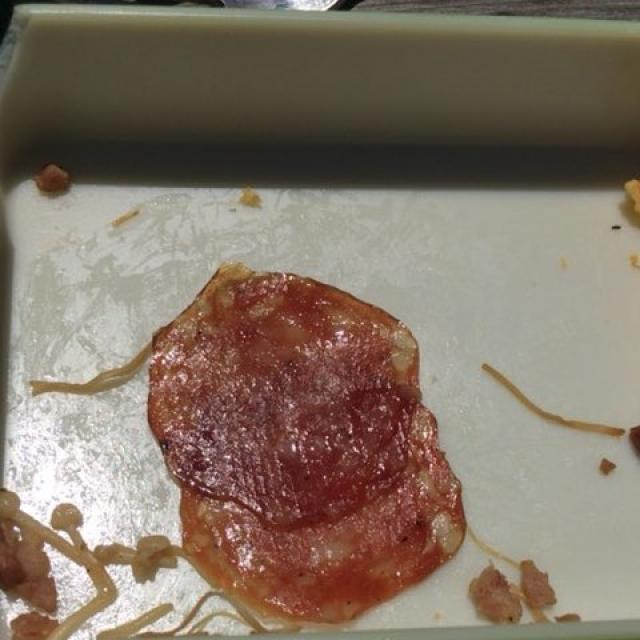salami: (150, 263, 461, 619)
